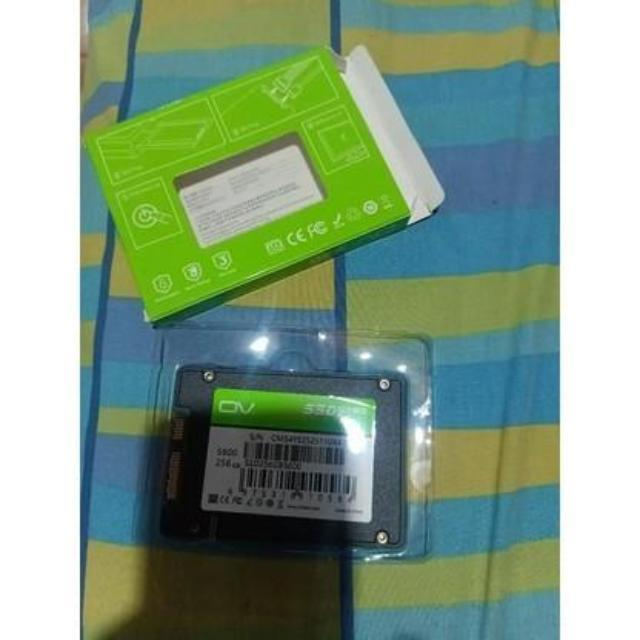DISK: (157, 366, 406, 551)
